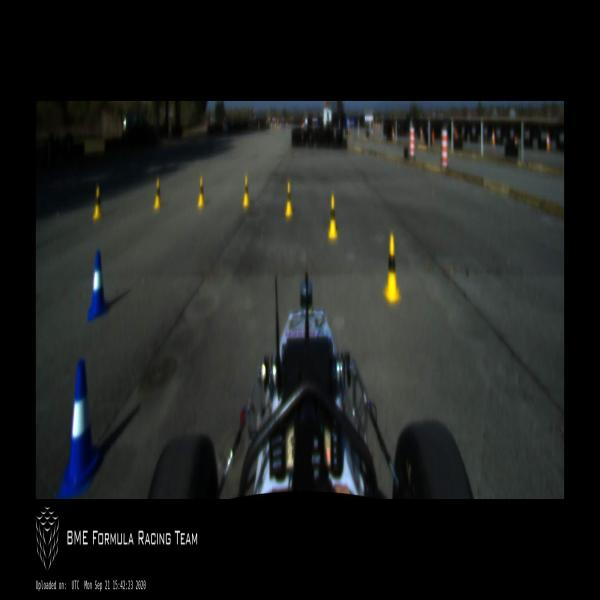blue_cone: (56, 358, 102, 498), (87, 250, 110, 322)
yellow_cone: (382, 234, 402, 304), (329, 195, 338, 239), (92, 186, 103, 221), (285, 183, 293, 218), (153, 178, 162, 209), (242, 176, 250, 208), (197, 177, 205, 208)
